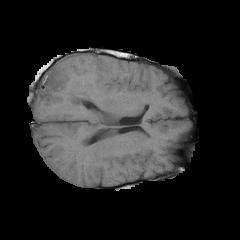glioma: (37, 62, 97, 114)
